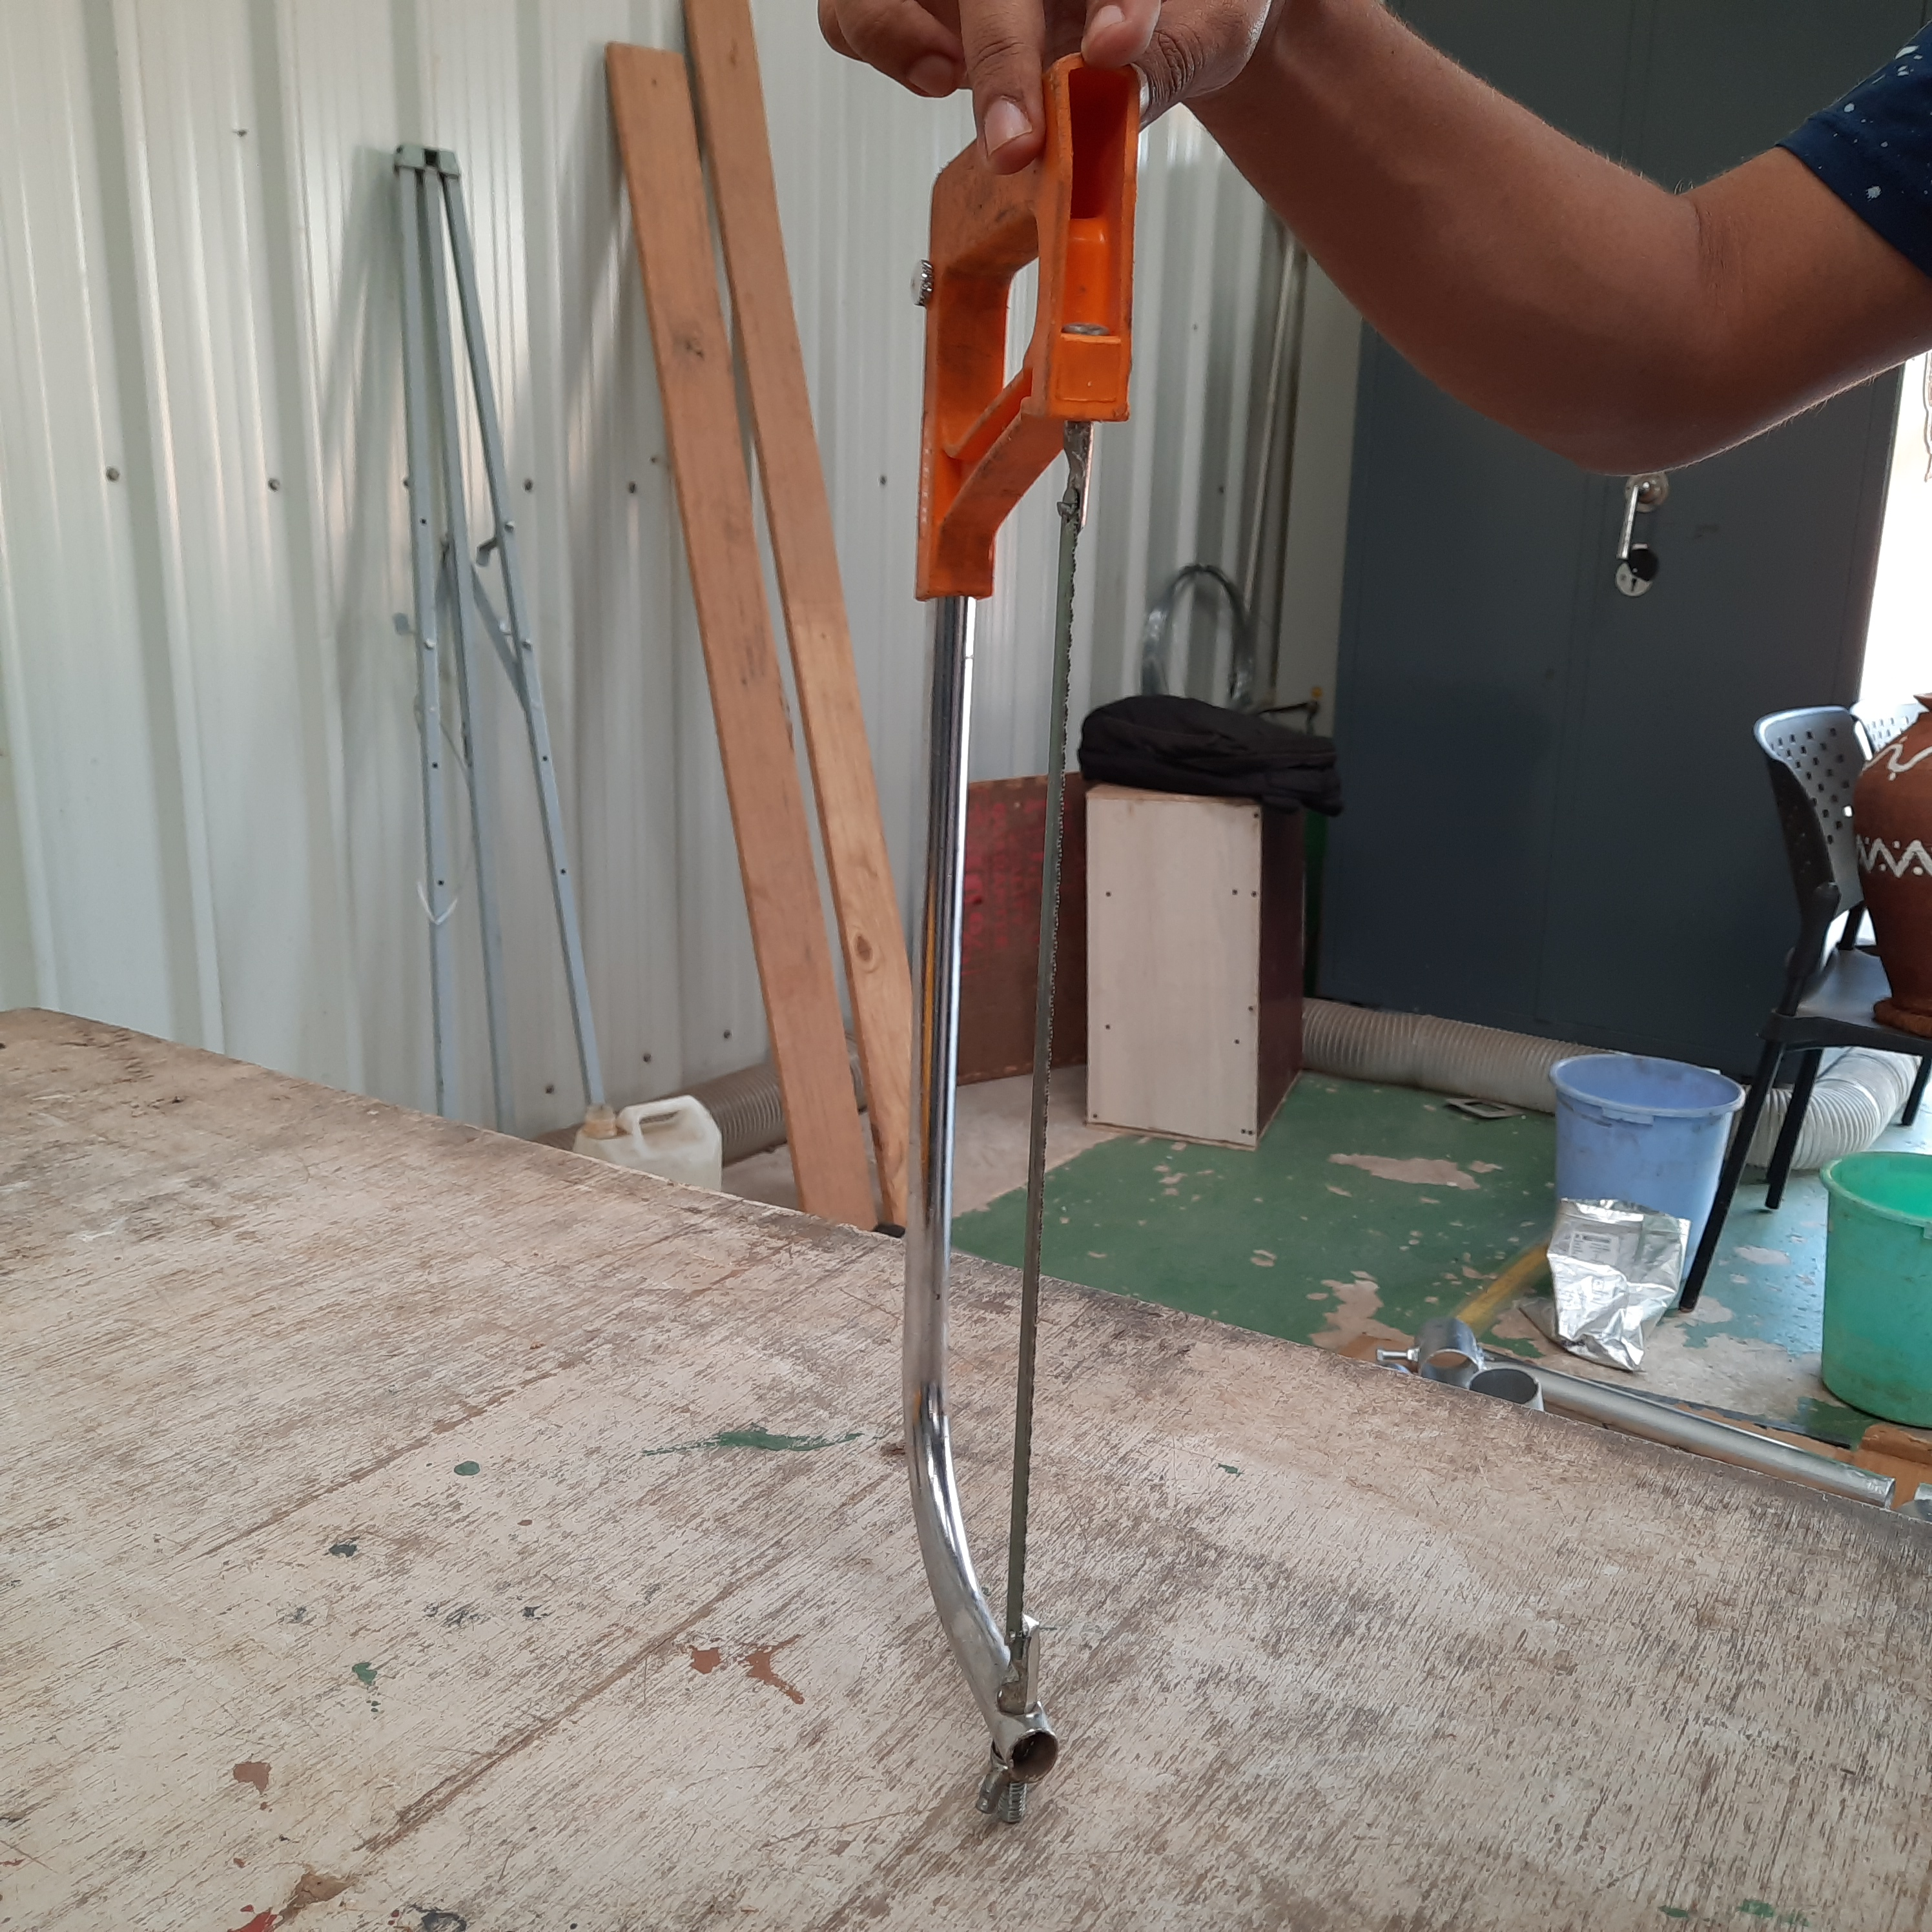Hexaframe: (904, 110, 1106, 1721)
